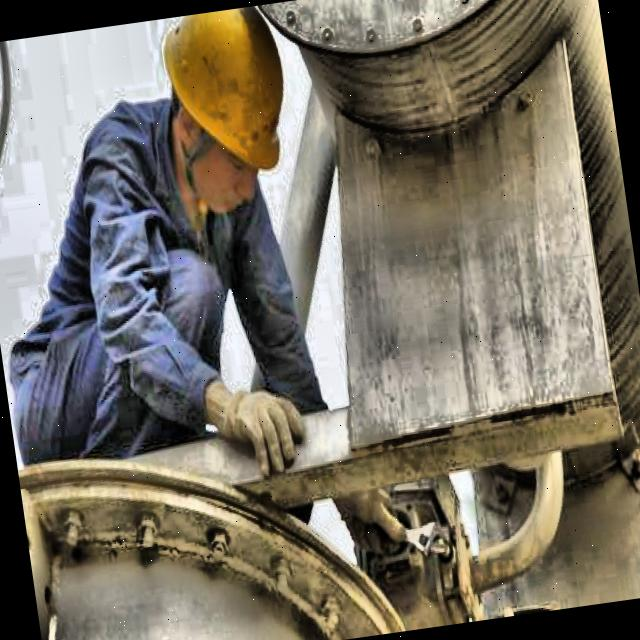helmet: (139, 2, 323, 232)
